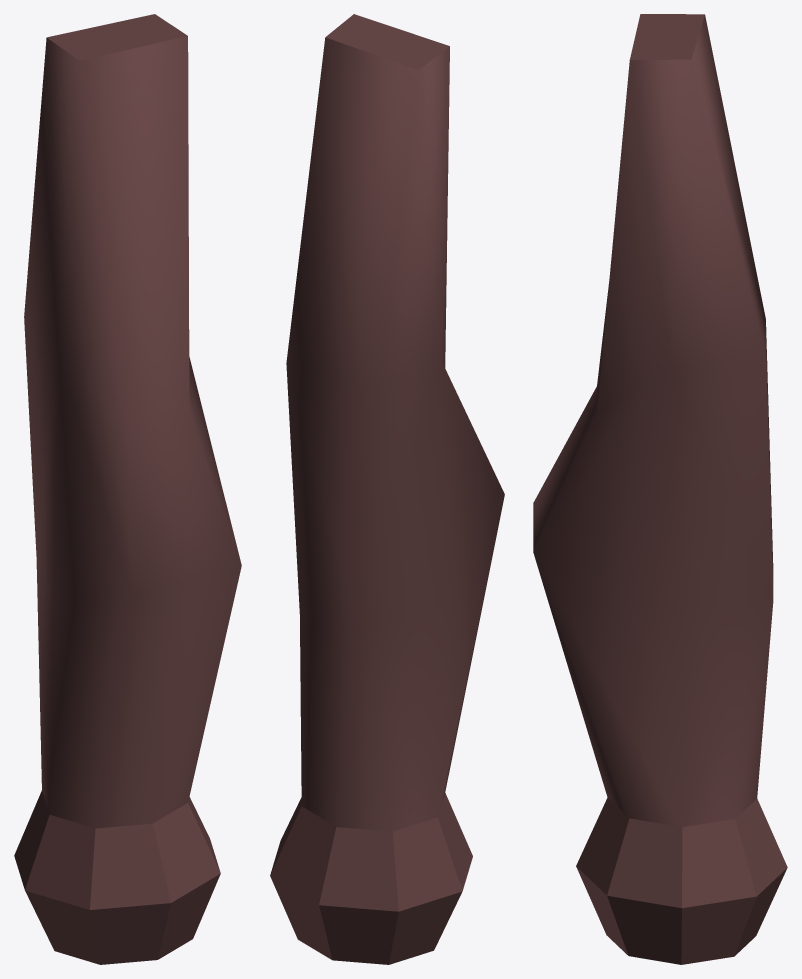
The model's file is armUpper_r.dae.
The picture shows the model from 3 angles, left to right: view 1: azimuth 30°, elevation 25°; view 2: azimuth 150°, elevation 25°; view 3: azimuth 270°, elevation 25°; orthographic projection.
Visible parts, largest first — view 1: Mesh_001; view 2: Mesh_001; view 3: Mesh_001.
Boxes of the visible parts, x1=… form: Mesh_001: x1=14, y1=14, x2=241, y2=964; Mesh_001: x1=270, y1=14, x2=504, y2=964; Mesh_001: x1=533, y1=14, x2=787, y2=964.
Bounding box in the file's own units: 0.9349 × 1.12 × 4.5.
